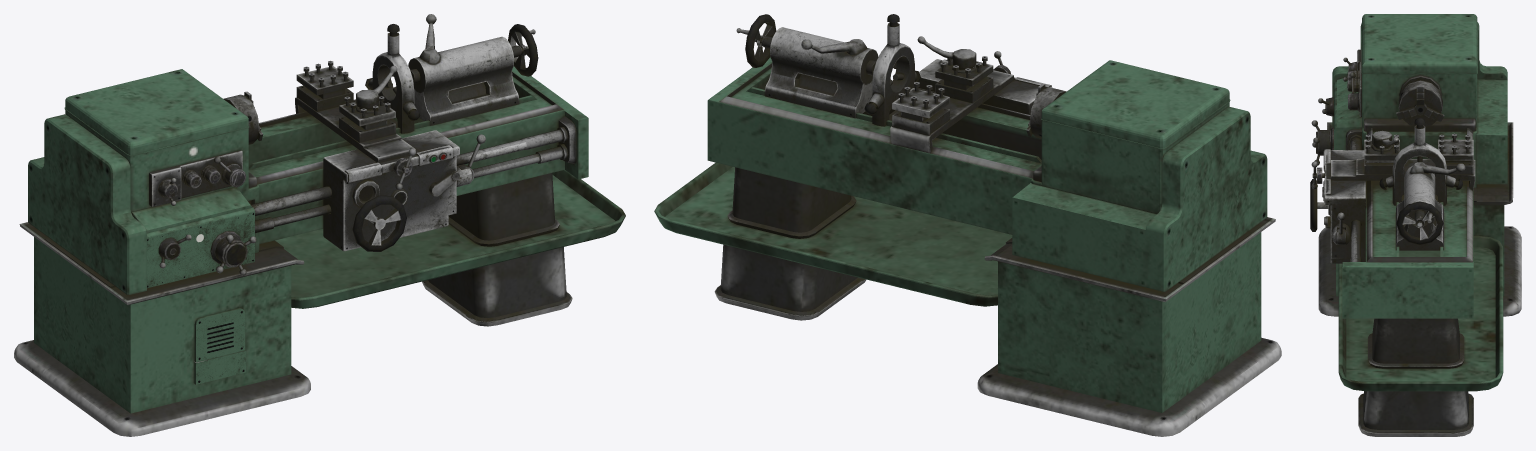
The model's file is industrial_lathe.glb.
The picture shows the model from 3 angles, left to right: view 1: azimuth 30°, elevation 25°; view 2: azimuth 150°, elevation 25°; view 3: azimuth 270°, elevation 25°; orthographic projection. The views are drawn at different scales.
Parts seen in each view (by area): view 1: polySurface9; view 2: polySurface9; view 3: polySurface9.
Boxes of the visible parts, box(x1,y1,x2,y2) form: polySurface9: box(14, 14, 625, 436); polySurface9: box(654, 14, 1281, 436); polySurface9: box(1310, 14, 1521, 436).
Bounding box in the file's own units: 467 × 250 × 187.
1 material, 1 textured.
